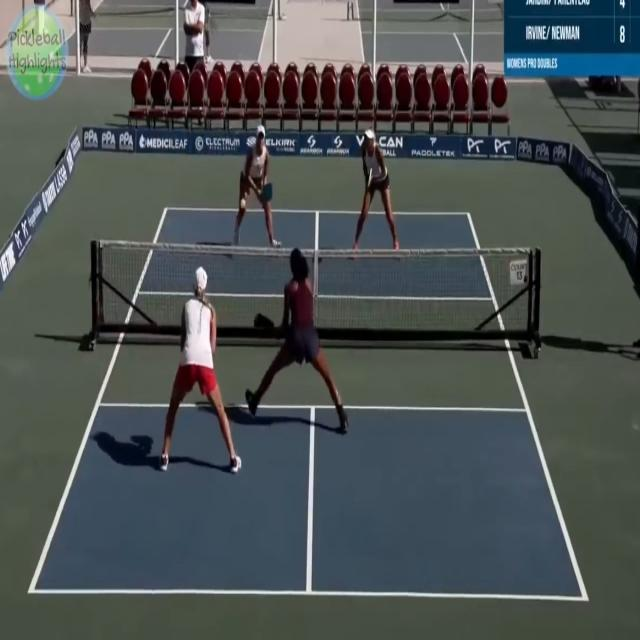Court: (31, 208, 584, 594)
ball: (236, 194, 252, 215)
